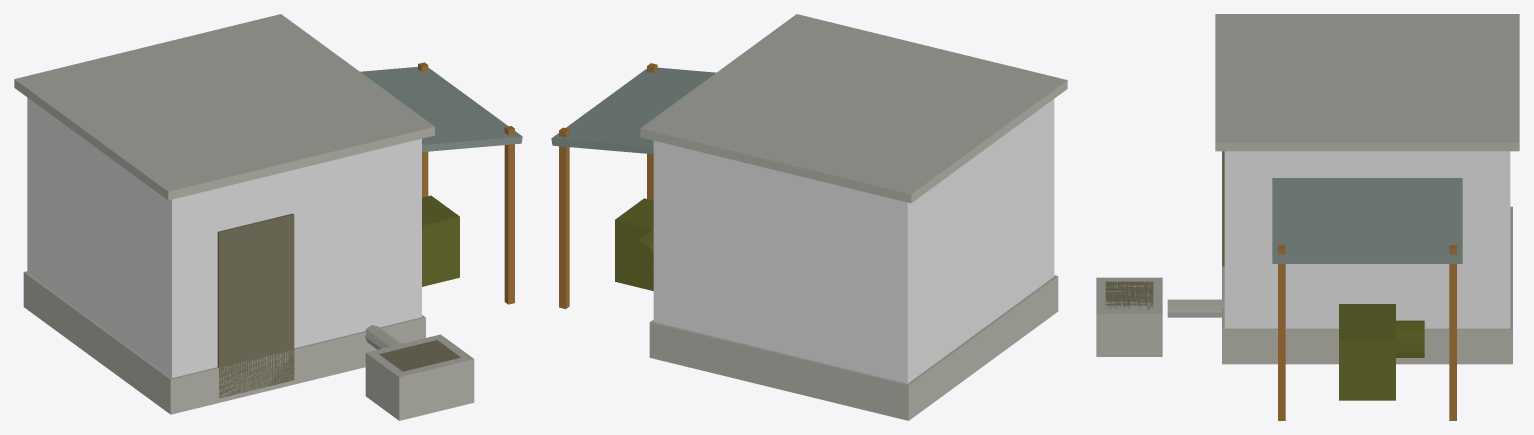
The model's file is SM_CasetaPozo_v2_Motor_LOD0.fbx.
The picture shows the model from 3 angles, left to right: view 1: azimuth 30°, elevation 25°; view 2: azimuth 150°, elevation 25°; view 3: azimuth 270°, elevation 25°; orthographic projection. The views are drawn at different scales.
Parts seen in each view (by area): view 1: SM_huerta_nules_v2_LOD0; view 2: SM_huerta_nules_v2_LOD0; view 3: SM_huerta_nules_v2_LOD0.
Boxes of the visible parts, box(x1,y1,x2,y2) form: SM_huerta_nules_v2_LOD0: box(14, 14, 522, 420); SM_huerta_nules_v2_LOD0: box(551, 14, 1067, 420); SM_huerta_nules_v2_LOD0: box(1096, 14, 1519, 420).
Size of the model in its own units: 4.6 by 2.6 by 4.45.
